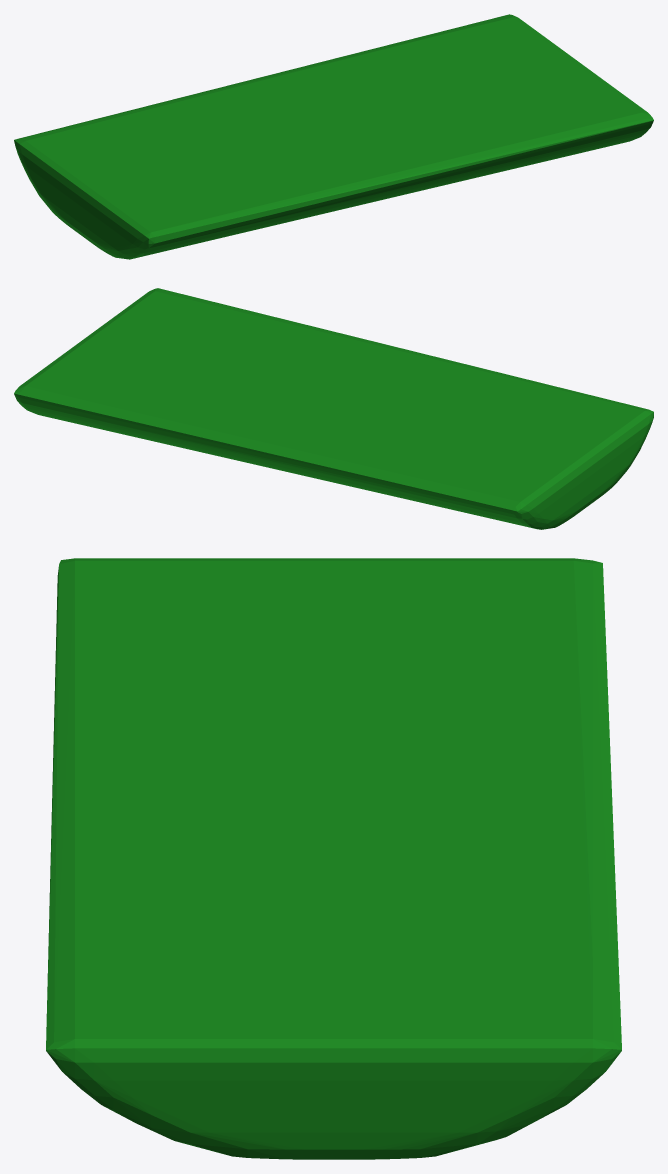
The model's file is right_elbow_link_part_8.obj.
3 views of the same model, one above another, from view 1: azimuth 30°, elevation 25°; view 2: azimuth 150°, elevation 25°; view 3: azimuth 270°, elevation 25° (orthographic). The views are drawn at different scales.
Bounding box in the file's own units: 0.0905 × 0.0101 × 0.0445.
